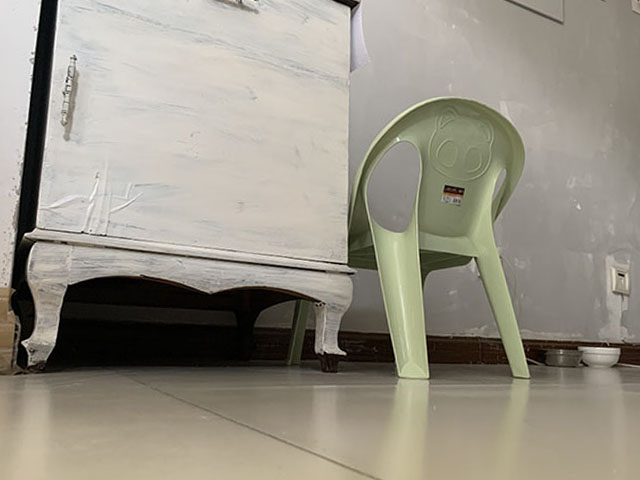cabinet: (15, 1, 360, 374)
stool: (348, 94, 532, 381)
